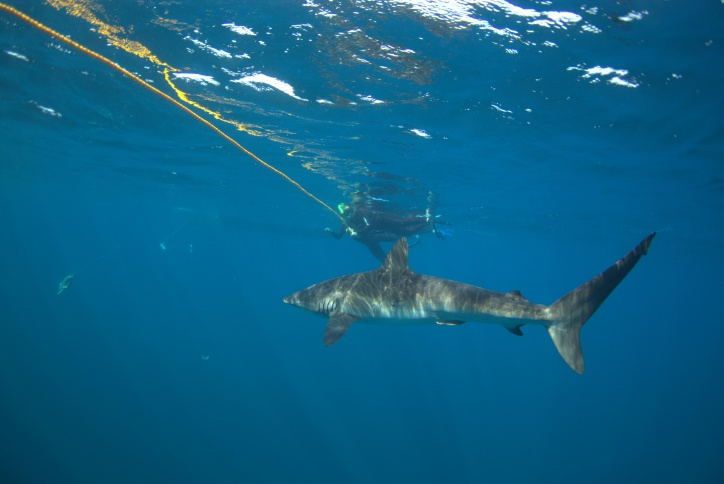Sedoso: (269, 227, 666, 378)
